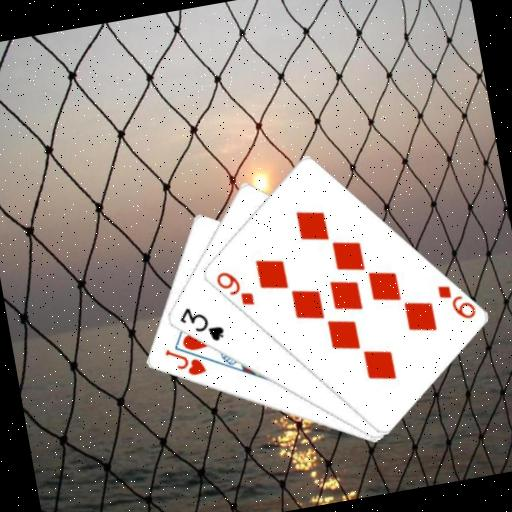3S: (173, 299, 227, 349)
9D: (210, 264, 256, 312), (432, 277, 478, 325)
JH: (160, 340, 208, 382)
